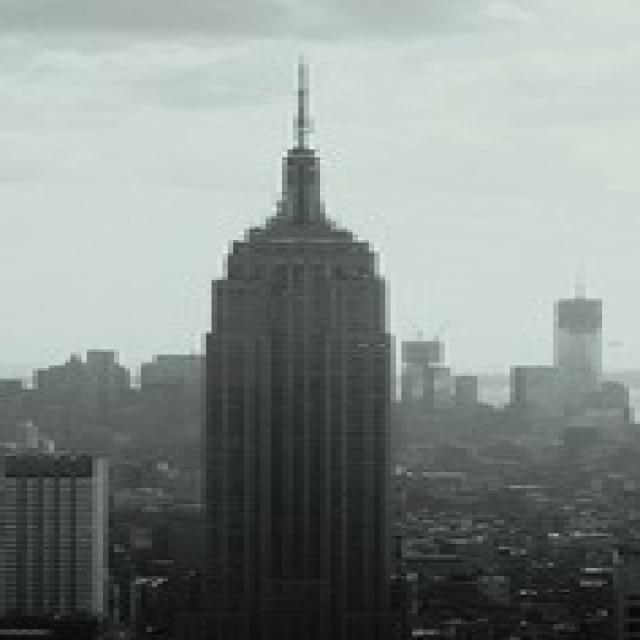Normal_building: (190, 136, 423, 635)
